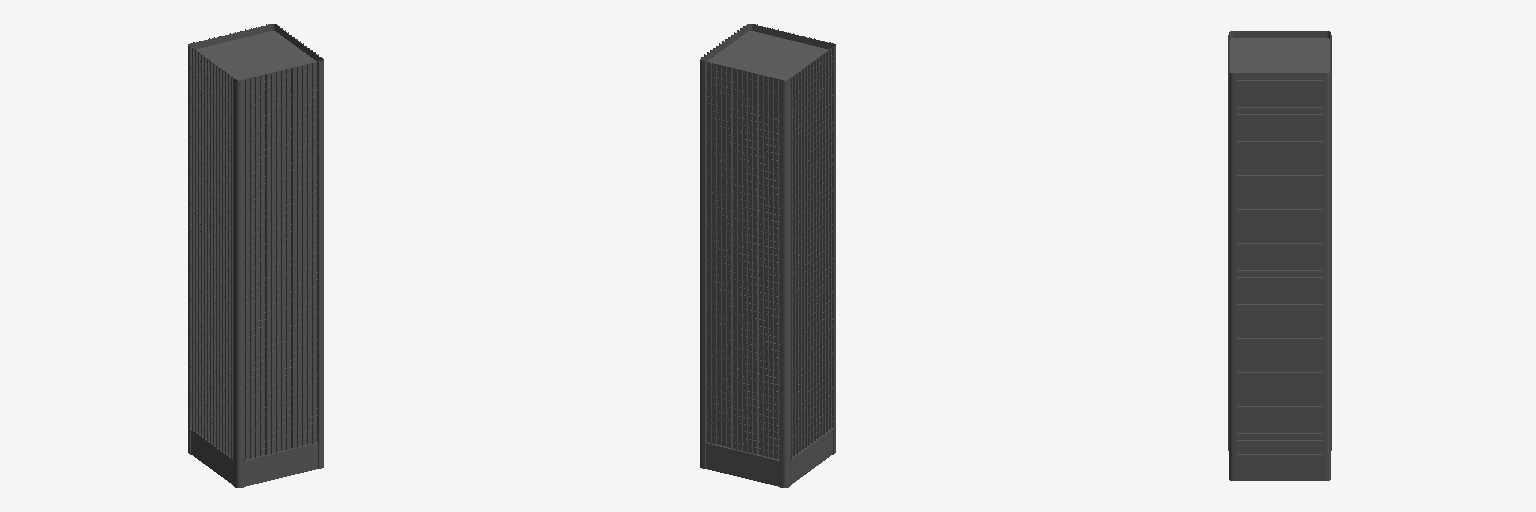
Rendered from building3.obj.
3 renders of one model, left to right at view 1: azimuth 30°, elevation 25°; view 2: azimuth 150°, elevation 25°; view 3: azimuth 270°, elevation 25°, orthographic.
Visible parts, largest first — view 1: Sky004_frame_01; view 2: Sky004_frame_01; view 3: Sky004_frame_01.
Boxes of the visible parts, x1=… form: Sky004_frame_01: x1=188, y1=24, x2=323, y2=487; Sky004_frame_01: x1=700, y1=24, x2=835, y2=487; Sky004_frame_01: x1=1228, y1=31, x2=1331, y2=480.
Bounding box in the file's own units: 361 × 1548 × 361.